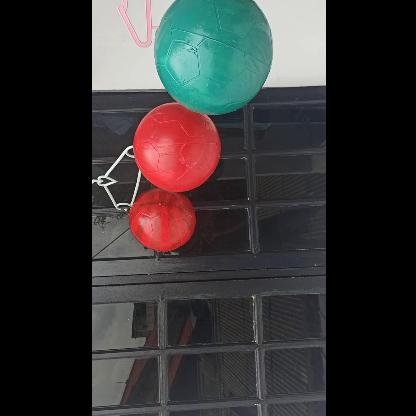red_ball: (133, 105, 219, 191), (126, 188, 192, 256)
